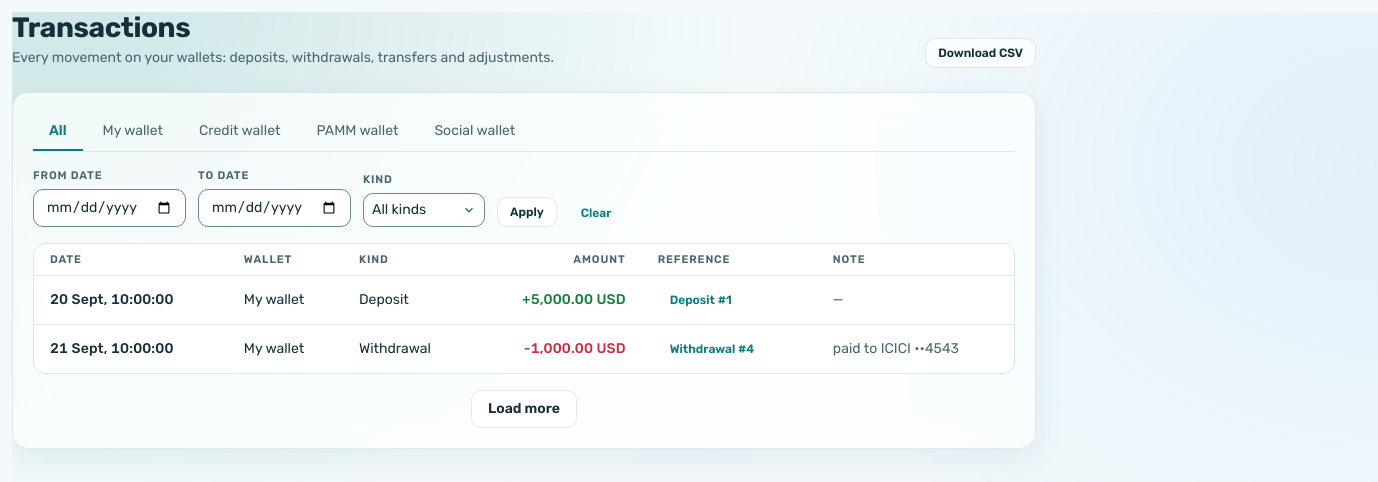
Test case: Load more appends the next page using next_before
Check: the link "Deposit #1" is shown, box [670,293,732,307]
Click the button "Load more": (524, 409) [471,390,577,428]
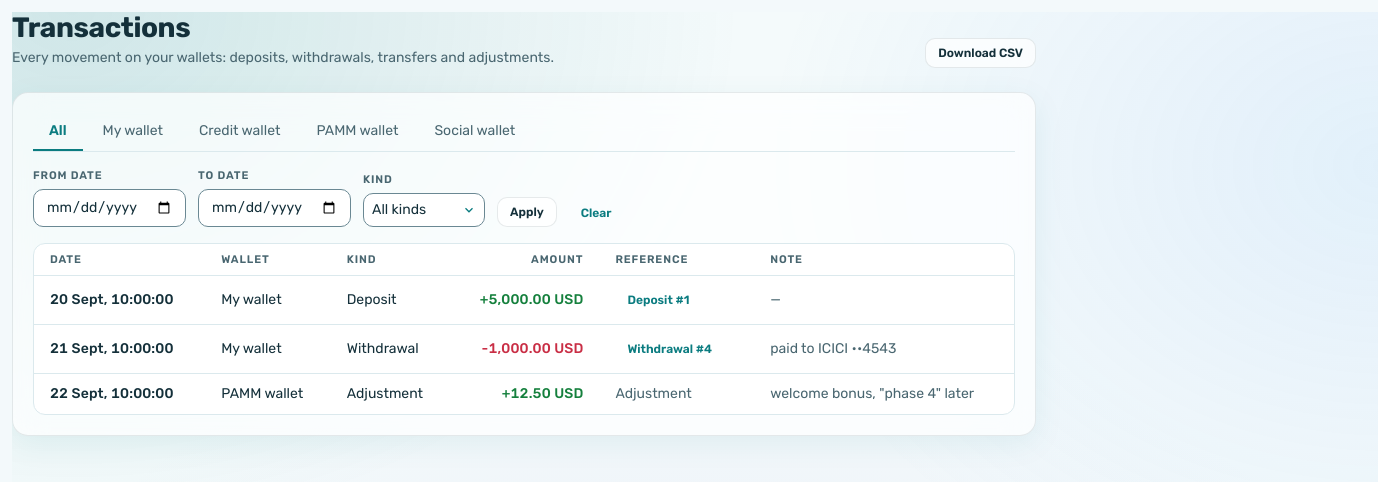
Check: the link "Deposit #1" is shown, box [627,293,689,307]
Check: the text "welcome bonus, \"phase 4\" later" is shown, box [754,374,1014,414]
Check: the button "Load more" is gone
